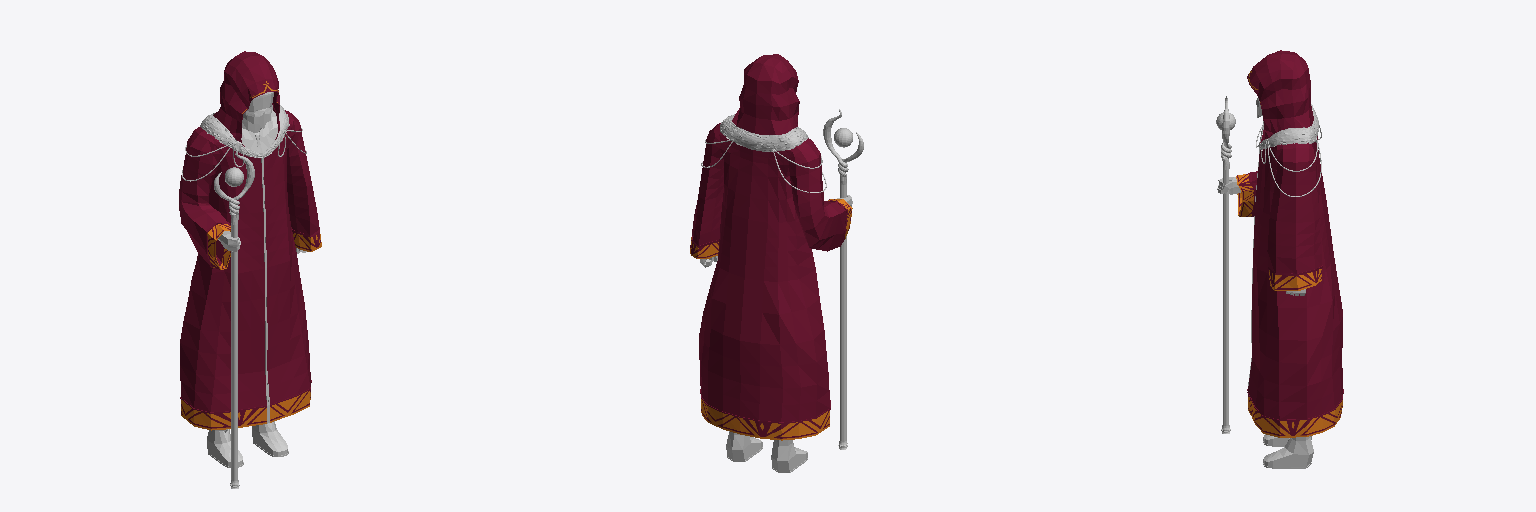
The picture shows the model from 3 angles: view 1: azimuth 30°, elevation 25°; view 2: azimuth 150°, elevation 25°; view 3: azimuth 270°, elevation 25°; orthographic projection.
Parts seen in each view (by area): view 1: hood_Plane, staff_Cylinder.009, boots_Cylinder.004, fur_Plane.004, Cylinder, shirt_Cylinder.002, hood.edge2_Plane.003; view 2: hood_Plane, staff_Cylinder.009, boots_Cylinder.004, fur_Plane.004; view 3: hood_Plane, staff_Cylinder.009, boots_Cylinder.004, fur_Plane.004.
Part boxes in pixels (x1,y1,x2,y2): hood_Plane: (179,51,321,430); staff_Cylinder.009: (214,149,254,488); boots_Cylinder.004: (207,421,288,467); fur_Plane.004: (200,105,289,157); Cylinder: (215,92,306,431); shirt_Cylinder.002: (241,114,277,153); hood.edge2_Plane.003: (261,158,269,423); hood_Plane: (690,54,852,440); staff_Cylinder.009: (823,109,863,449); boots_Cylinder.004: (726,431,807,472); fur_Plane.004: (720,114,808,151); hood_Plane: (1236,50,1342,437); staff_Cylinder.009: (1216,96,1235,433); boots_Cylinder.004: (1263,434,1313,468); fur_Plane.004: (1259,104,1318,149).
Bounding box in the file's own units: 0.6537 × 1.82 × 0.5247.
3 materials, 1 textured.